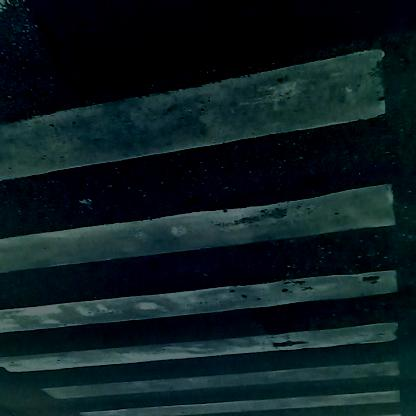crosswalk: (2, 30, 401, 402)
